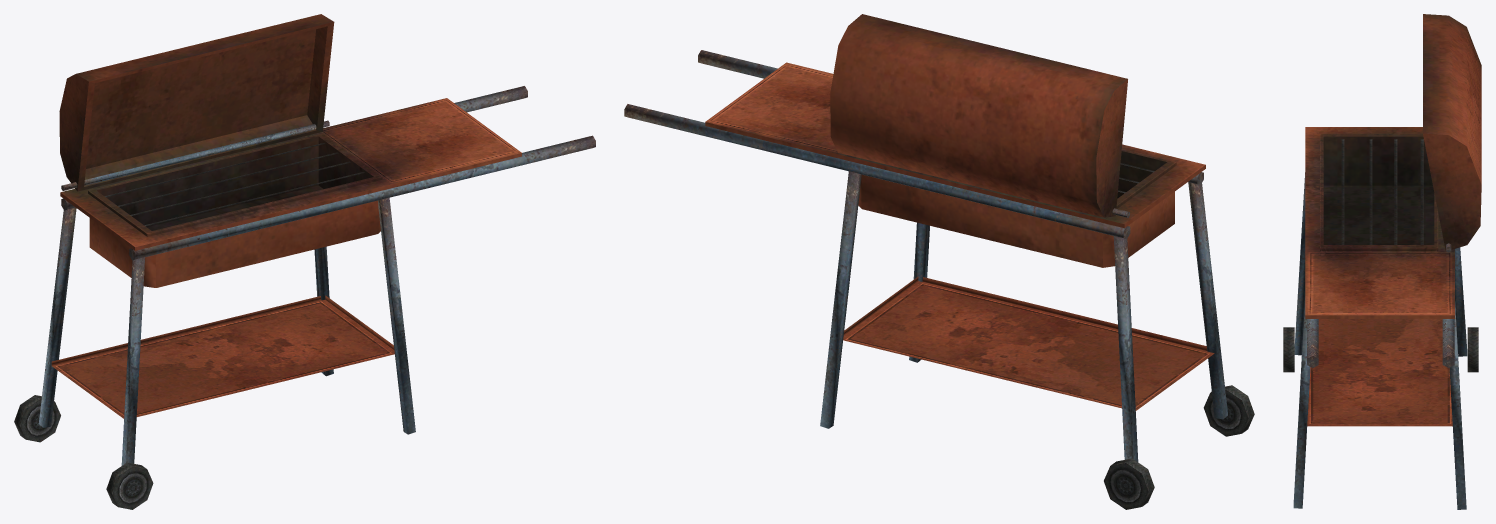
File: Prop_Skj01.glb
3 renders of one model, left to right at view 1: azimuth 30°, elevation 25°; view 2: azimuth 150°, elevation 25°; view 3: azimuth 270°, elevation 25°, orthographic. The views are drawn at different scales.
Parts seen in each view (by area): view 1: xiutz_skj_01; view 2: xiutz_skj_01; view 3: xiutz_skj_01.
Boxes of the visible parts, x1,y1,x2,y2 form: xiutz_skj_01: [14, 14, 595, 509]; xiutz_skj_01: [624, 14, 1254, 509]; xiutz_skj_01: [1283, 14, 1481, 509].
Size of the model in its own units: 3.29 by 2.35 by 1.14.
1 material, 1 textured.
